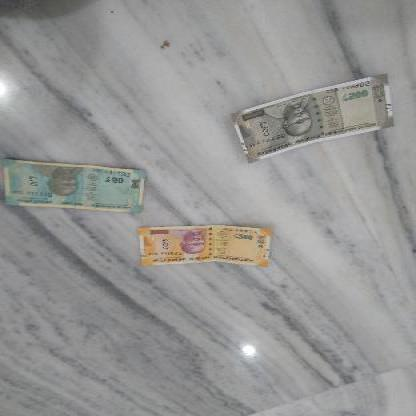New200Front: (141, 228, 276, 266)
New500Front: (242, 73, 394, 166)
New50Front: (0, 167, 144, 211)
